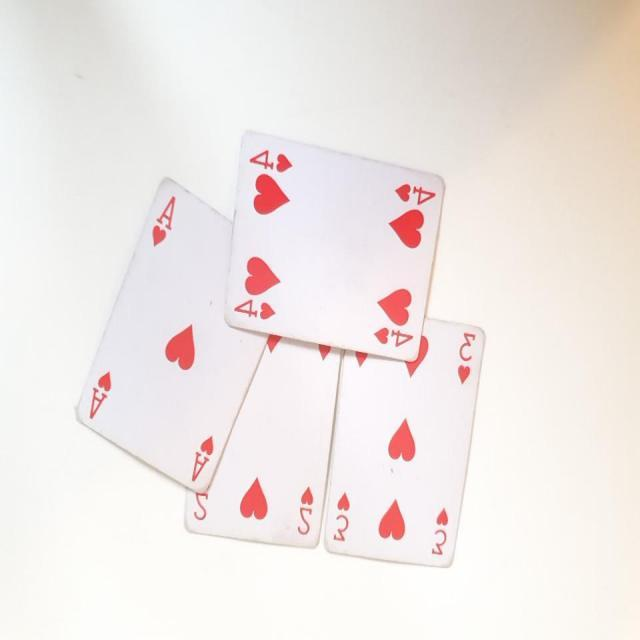2 of hearts: (177, 320, 345, 553)
3 of hearts: (328, 311, 492, 573)
4 of hearts: (225, 124, 450, 368)
ace of hearts: (72, 172, 280, 502)
